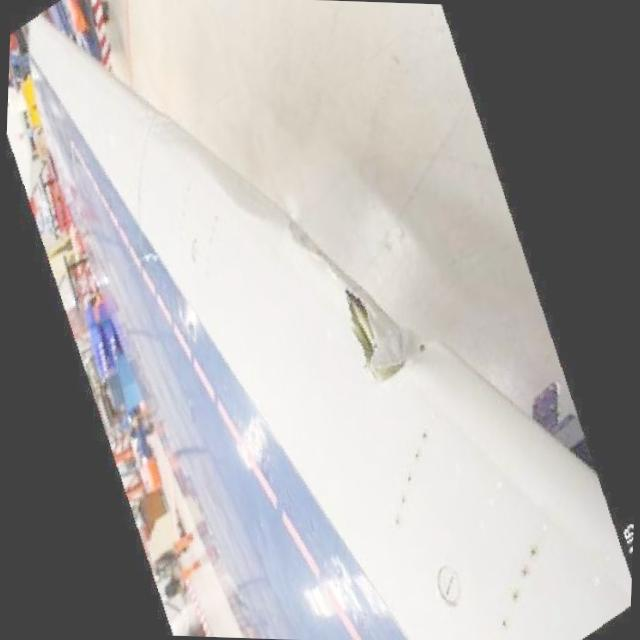crack: (339, 284, 417, 382)
dent: (178, 128, 326, 264)
